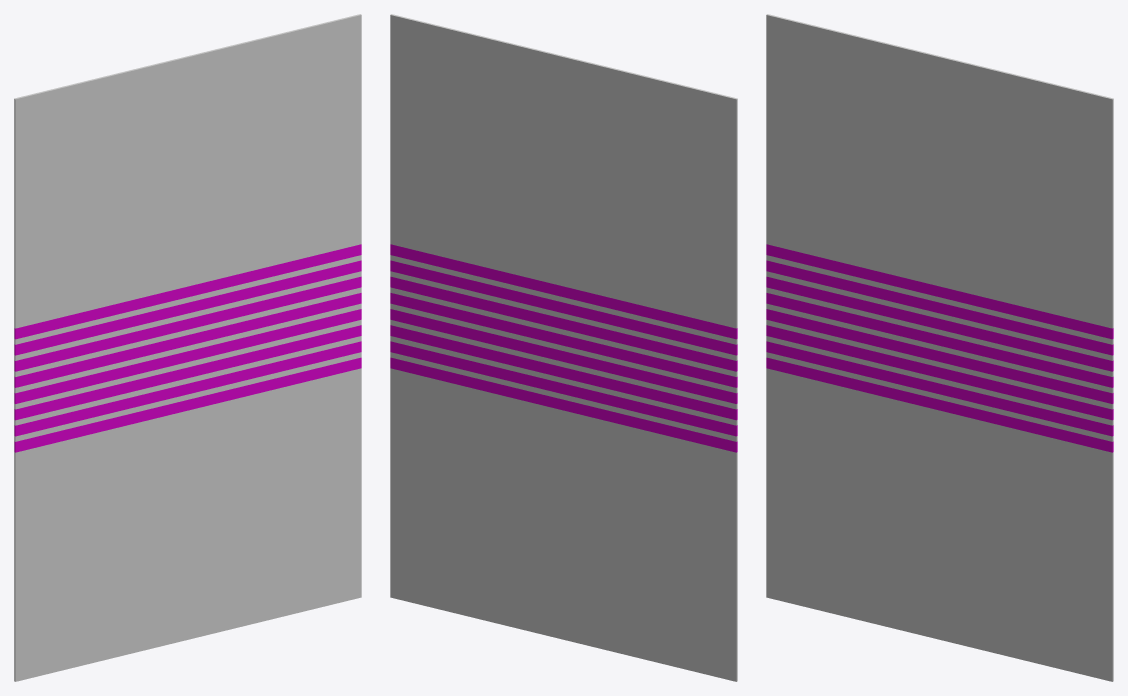
File: GlassStripes.fbx
3 views of the same model, side by side, from view 1: azimuth 30°, elevation 25°; view 2: azimuth 150°, elevation 25°; view 3: azimuth 330°, elevation 25° (orthographic).
Visible parts, largest first — view 1: Glass; view 2: Glass; view 3: Glass.
Part boxes in pixels (<box>): Glass: <box>14,14,361,681</box>; Glass: <box>390,14,737,681</box>; Glass: <box>766,14,1113,681</box>.
Size of the model in its own units: 165 by 266 by 1.
